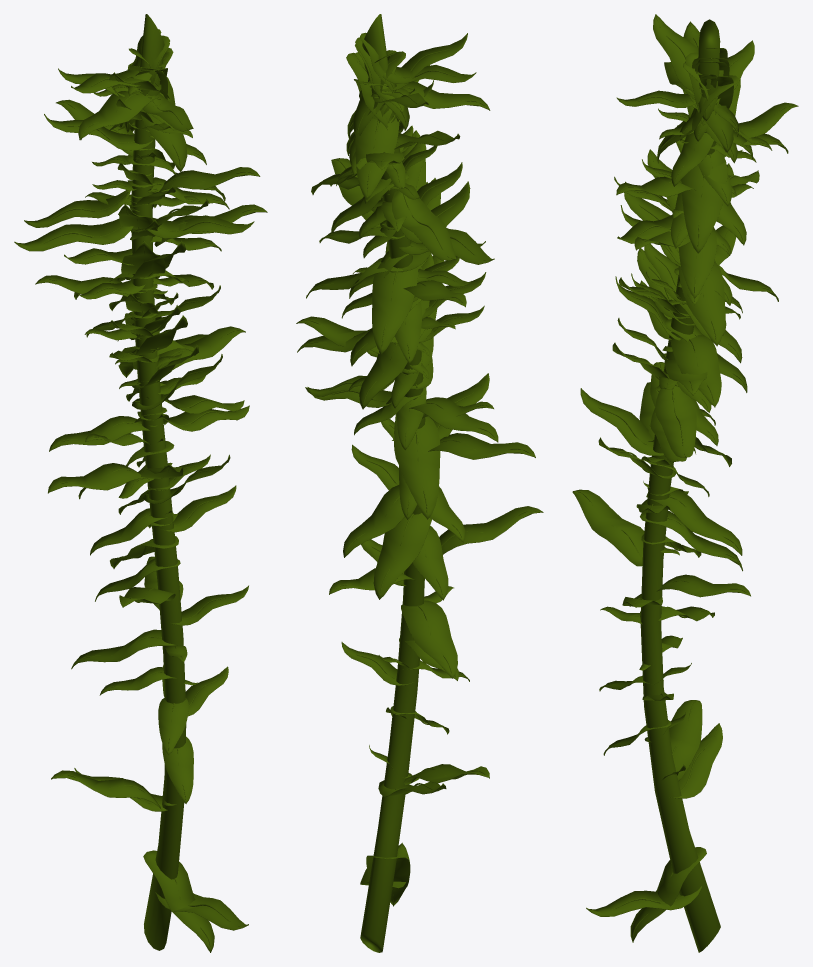
3 views of the same model, side by side, from view 1: azimuth 30°, elevation 25°; view 2: azimuth 150°, elevation 25°; view 3: azimuth 270°, elevation 25° (orthographic).
Visible parts, largest first — view 1: ベジエカーブ.003, ベジエカーブ.394, ベジエカーブ.308, ベジエカーブ.258, ベジエカーブ.366, ベジエカーブ.309, ベジエカーブ.350, ベジエカーブ.320, ベジエカーブ.391, ベジエカーブ.390, ベジエカーブ.397, ベジエカーブ.383 (+27 smaller); view 2: ベジエカーブ.003, ベジエカーブ.352, ベジエカーブ.311, ベジエカーブ.378, ベジエカーブ.383, ベジエカーブ.309, ベジエカーブ.263, ベジエカーブ.370, ベジエカーブ.376, ベジエカーブ.366, ベジエカーブ.350, ベジエカーブ.335 (+33 smaller); view 3: ベジエカーブ.003, ベジエカーブ.297, ベジエカーブ.376, ベジエカーブ.358, ベジエカーブ.338, ベジエカーブ.317, ベジエカーブ.391, ベジエカーブ.370, ベジエカーブ.364, ベジエカーブ.395, ベジエカーブ.394, ベジエカーブ.318 (+26 smaller).
Part boxes in pixels (box(x1,y1,x2,y2)): ベジエカーブ.003: box(131, 14, 186, 950); ベジエカーブ.394: box(143, 850, 214, 952); ベジエカーブ.308: box(14, 219, 133, 251); ベジエカーブ.258: box(78, 91, 158, 139); ベジエカーブ.366: box(48, 463, 151, 493); ベジエカーブ.309: box(24, 190, 130, 227); ベジエカーブ.350: box(49, 416, 149, 451); ベジエカーブ.320: box(147, 215, 254, 238); ベジエカーブ.391: box(51, 770, 160, 808); ベジエカーブ.390: box(162, 736, 193, 803); ベジエカーブ.397: box(155, 891, 248, 930); ベジエカーブ.383: box(71, 629, 177, 669); ベジエカーブ.003: box(360, 14, 425, 952); ベジエカーブ.352: box(394, 416, 440, 519); ベジエカーブ.311: box(372, 262, 418, 353); ベジエカーブ.378: box(373, 513, 431, 599); ベジエカーブ.383: box(401, 600, 457, 678); ベジエカーブ.309: box(392, 190, 456, 260); ベジエカーブ.263: box(355, 114, 399, 199); ベジエカーブ.370: box(343, 485, 404, 557); ベジエカーブ.376: box(439, 506, 543, 554); ベジエカーブ.366: box(428, 433, 535, 459); ベジエカーブ.350: box(409, 397, 498, 442); ベジエカーブ.335: box(359, 328, 424, 409); ベジエカーブ.003: box(640, 19, 720, 952); ベジエカーブ.297: box(681, 159, 727, 253); ベジエカーブ.376: box(572, 489, 644, 566); ベジエカーブ.358: box(655, 383, 696, 457); ベジエカーブ.338: box(670, 335, 721, 407); ベジエカーブ.317: box(678, 262, 725, 346); ベジエカーブ.391: box(669, 700, 702, 780); ベジエカーブ.370: box(646, 490, 742, 555); ベジエカーブ.364: box(580, 388, 663, 455); ベジエカーブ.395: box(669, 723, 722, 798); ベジエカーブ.394: box(630, 847, 706, 942); ベジエカーブ.318: box(679, 230, 716, 298).
Size of the model in its own units: 1.88 by 7.73 by 1.71.
